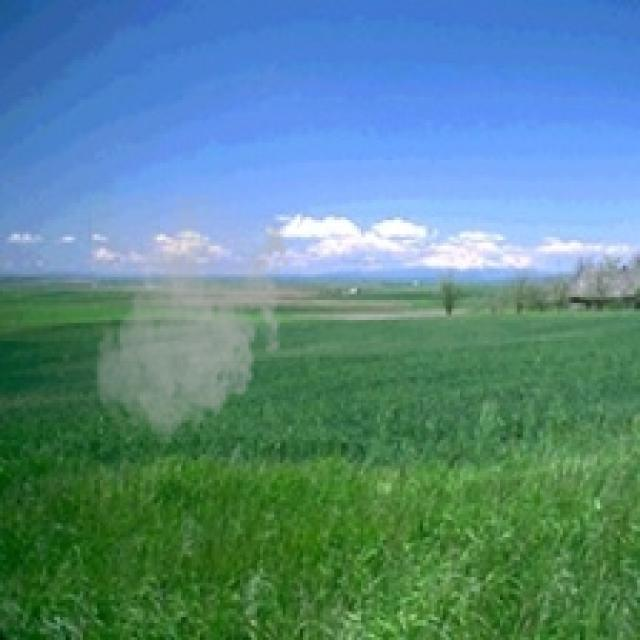Smoke: (88, 194, 294, 452)
